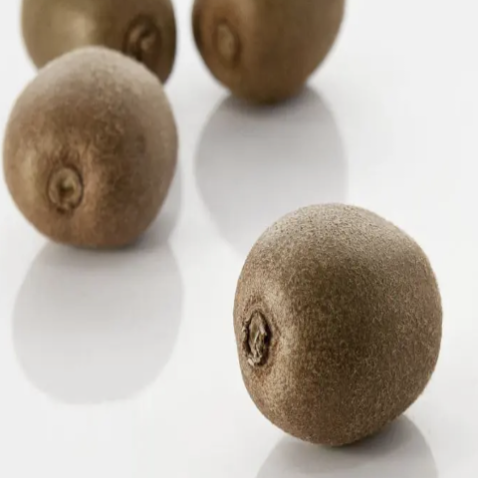kiwi: (214, 185, 461, 461), (0, 44, 203, 268)
